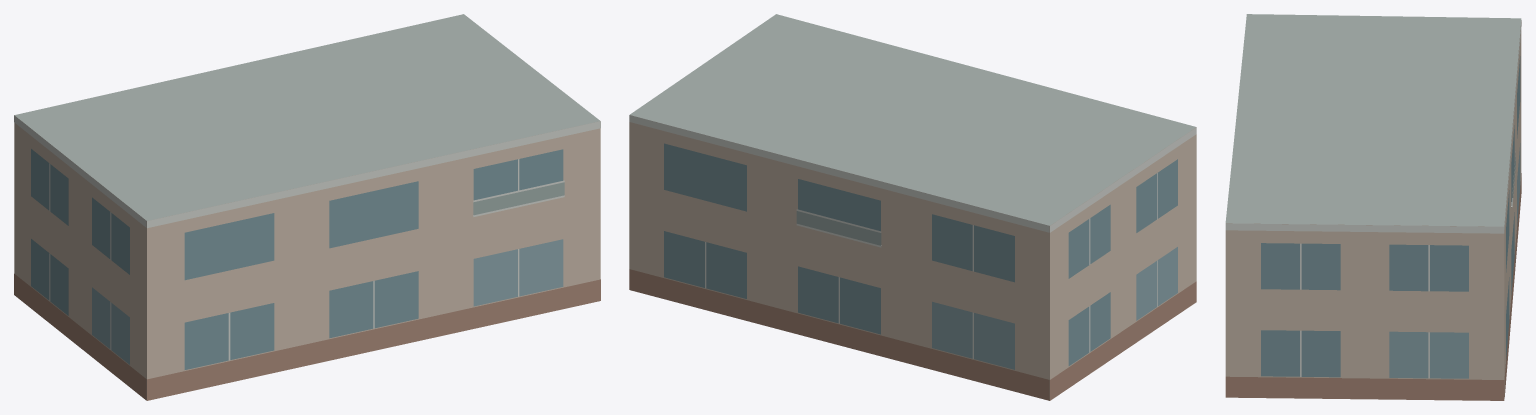
File: survey-upis-32766621.glb
3 views of the same model, side by side, from view 1: azimuth 30°, elevation 25°; view 2: azimuth 150°, elevation 25°; view 3: azimuth 270°, elevation 25° (orthographic). The views are drawn at different scales.
Parts seen in each view (by area): view 1: survey-upis-32766621.tmp; view 2: survey-upis-32766621.tmp; view 3: survey-upis-32766621.tmp.
Part boxes in pixels (box(x1,y1,x2,y2)): survey-upis-32766621.tmp: box(14, 14, 600, 400); survey-upis-32766621.tmp: box(629, 14, 1196, 400); survey-upis-32766621.tmp: box(1225, 14, 1521, 400).
Size of the model in its own units: 15.98 by 6.1 by 9.4.
